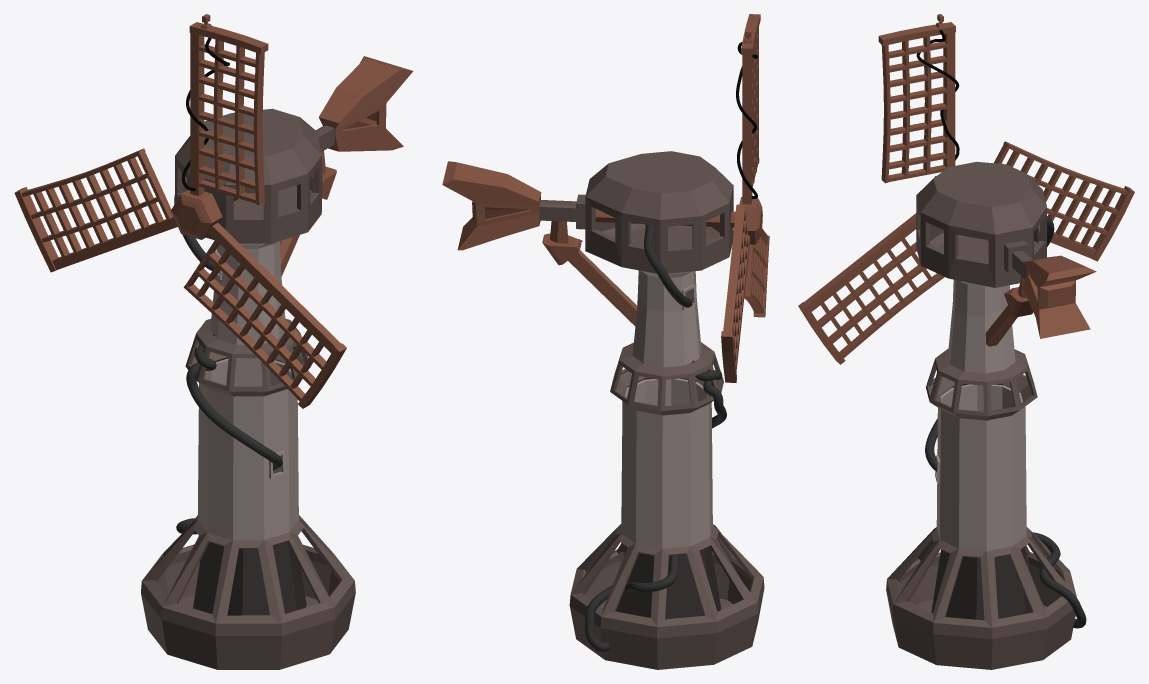
Rendered from windmillFB.fbx.
3 views of the same model, side by side, from view 1: azimuth 30°, elevation 25°; view 2: azimuth 150°, elevation 25°; view 3: azimuth 270°, elevation 25° (orthographic). The views are drawn at different scales.
Parts seen in each view (by area): view 1: Cube.025, Cylinder.007, Cylinder, Cylinder.001, Cylinder.004, Cylinder.005, Cylinder.006, Cube, Cylinder.003; view 2: Cylinder, Cylinder.007, Cylinder.001, Cube.025, Cylinder.004, Cylinder.006, Cylinder.005, Cube, Cylinder.003, Cube.014; view 3: Cube.025, Cylinder, Cylinder.007, Cylinder.001, Cylinder.004, Cylinder.006, Cylinder.005, Cube, Cylinder.003, Cube.014.
Part boxes in pixels (box(x1,y1,x2,y2)): Cube.025: box(14, 14, 346, 408); Cylinder.007: box(141, 515, 355, 669); Cylinder: box(197, 241, 298, 540); Cylinder.001: box(175, 108, 334, 243); Cylinder.004: box(319, 56, 413, 151); Cylinder.005: box(193, 541, 306, 615); Cylinder.006: box(185, 318, 310, 396); Cube: box(174, 195, 282, 534); Cylinder.003: box(280, 151, 336, 276); Cylinder: box(621, 270, 712, 548); Cylinder.007: box(569, 524, 764, 669); Cylinder.001: box(539, 151, 733, 273); Cube.025: box(721, 14, 769, 382); Cylinder.004: box(442, 161, 541, 250); Cylinder.006: box(610, 342, 723, 415); Cylinder.005: box(616, 546, 720, 619); Cube: box(585, 224, 726, 651); Cylinder.003: box(542, 221, 636, 325); Cube.014: box(736, 42, 757, 198); Cube.025: box(798, 14, 1134, 364); Cylinder: box(935, 279, 1026, 551); Cylinder.007: box(886, 527, 1076, 669); Cylinder.001: box(916, 161, 1046, 287); Cylinder.004: box(1023, 255, 1096, 338); Cylinder.006: box(926, 348, 1037, 420); Cylinder.005: box(931, 547, 1032, 620); Cube: box(925, 216, 1086, 628); Cylinder.003: box(985, 276, 1033, 346); Cube.014: box(916, 30, 959, 160).
Size of the model in its own units: 240 by 421 by 218.
